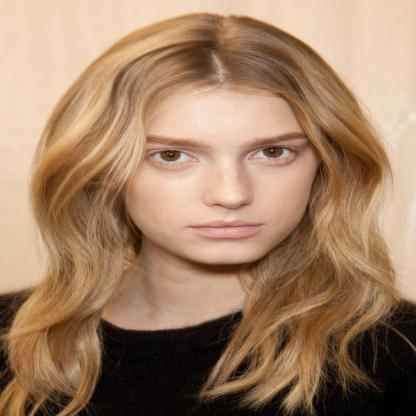long-hair: (26, 271, 402, 315)
